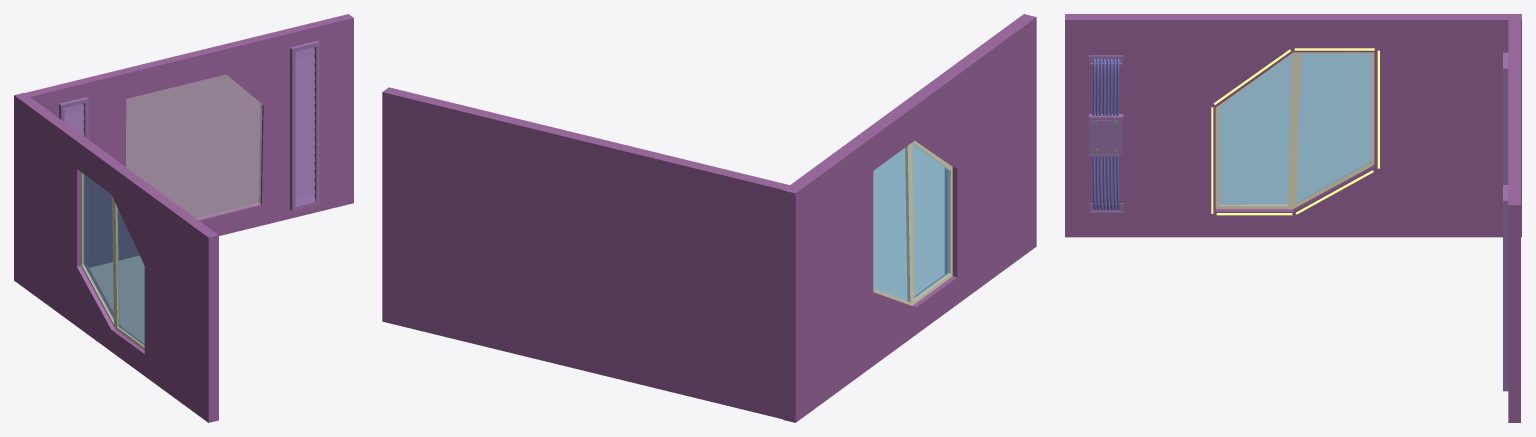
File: walls_tier19.fbx
The picture shows the model from 3 angles, left to right: view 1: azimuth 30°, elevation 25°; view 2: azimuth 150°, elevation 25°; view 3: azimuth 270°, elevation 25°; orthographic projection. The views are drawn at different scales.
Visible parts, largest first — view 1: Cube.007, Cube, Plane, Cube.003, Cube.004, Cube.001, Cube.002; view 2: Cube.007, Cube, Cube.003, Cube.001; view 3: Cube, Cube.003, Cube.007, Cube.001, Cube.012, cable.001, cable.007, Cube.004, Cube.002.
Boxes of the visible parts, bbox=[...] form: Cube.007: bbox=[25, 14, 353, 267]; Cube: bbox=[14, 93, 218, 422]; Plane: bbox=[126, 74, 262, 219]; Cube.003: bbox=[82, 173, 144, 346]; Cube.004: bbox=[290, 40, 319, 211]; Cube.001: bbox=[80, 172, 144, 350]; Cube.002: bbox=[59, 97, 88, 260]; Cube.007: bbox=[382, 87, 789, 419]; Cube: bbox=[783, 14, 1036, 422]; Cube.003: bbox=[873, 143, 949, 301]; Cube.001: bbox=[873, 140, 952, 305]; Cube: bbox=[1065, 14, 1521, 237]; Cube.003: bbox=[1219, 53, 1371, 204]; Cube.007: bbox=[1508, 20, 1520, 422]; Cube.001: bbox=[1215, 52, 1374, 208]; Cube.012: bbox=[1089, 114, 1123, 156]; cable.001: bbox=[1092, 58, 1119, 115]; cable.007: bbox=[1092, 157, 1119, 209]; Cube.004: bbox=[1503, 185, 1508, 391]; Cube.002: bbox=[1503, 52, 1508, 184].
Size of the model in its own units: 653 by 346 by 658.
